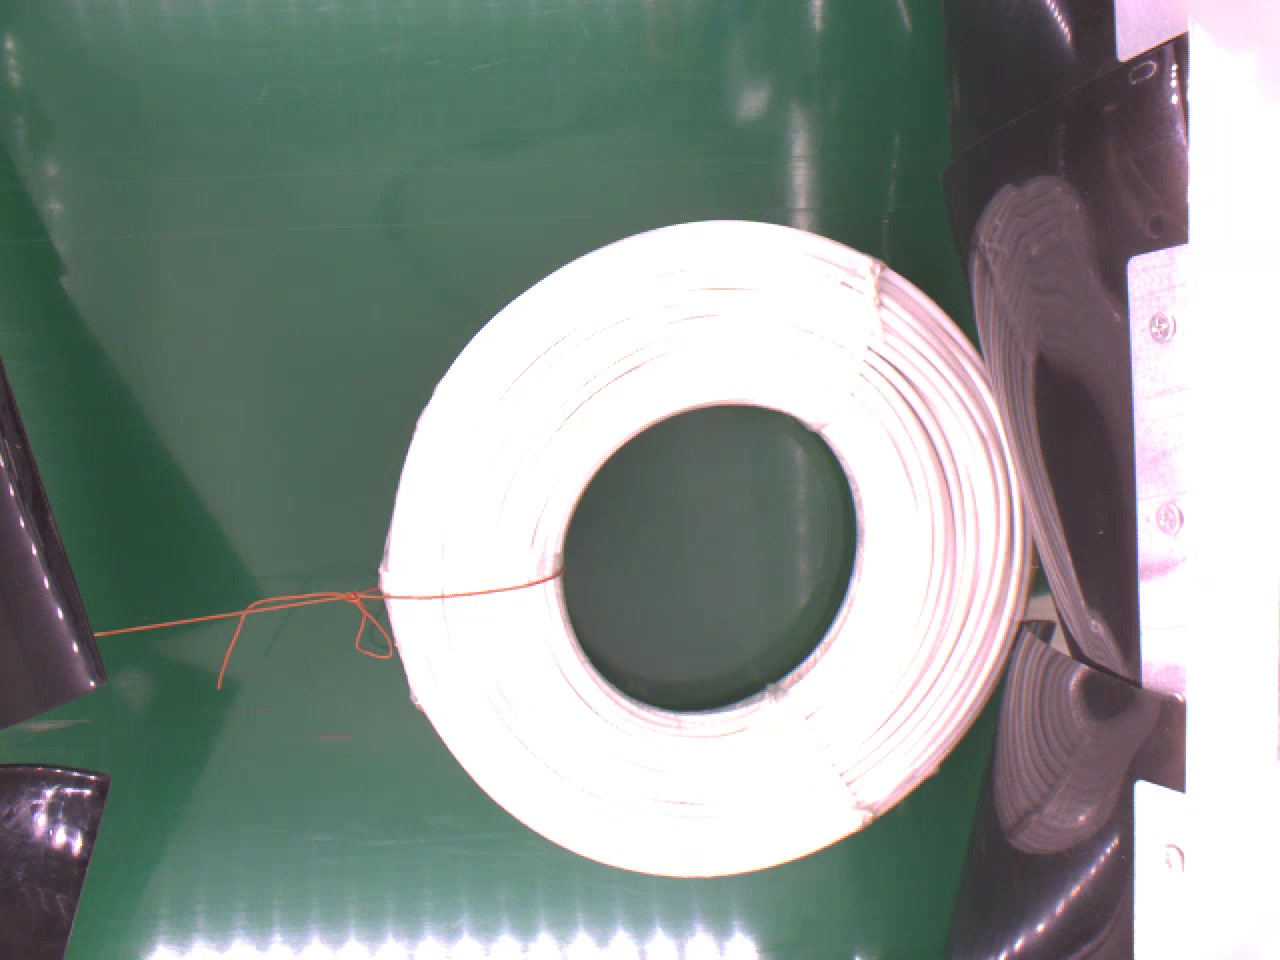white: (374, 210, 1029, 879)
